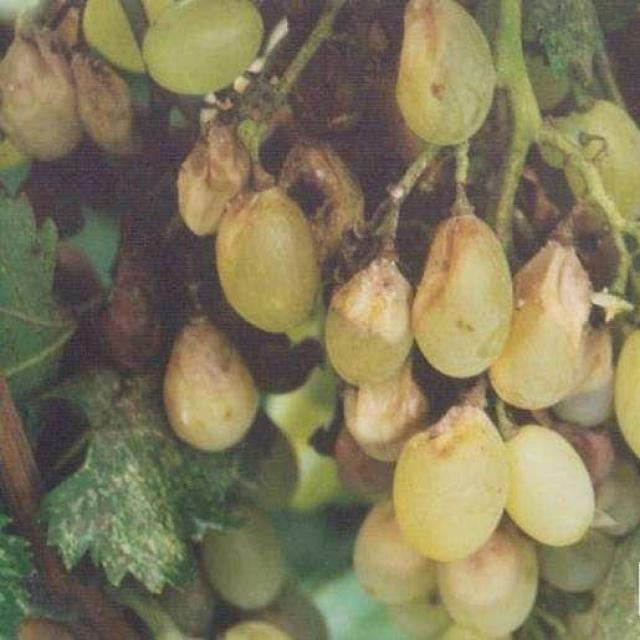Wet Waste: (1, 2, 639, 638)
